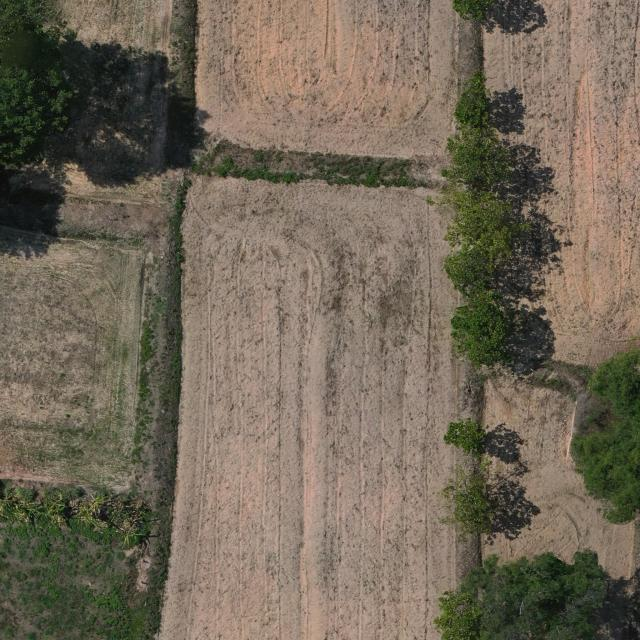Tree: (462, 549, 610, 640), (0, 0, 81, 162), (569, 348, 640, 527), (440, 192, 530, 260), (442, 461, 502, 546), (449, 292, 508, 369), (441, 129, 508, 194), (435, 589, 482, 640), (442, 416, 490, 456), (444, 252, 493, 290), (452, 90, 492, 130), (451, 0, 495, 22)
